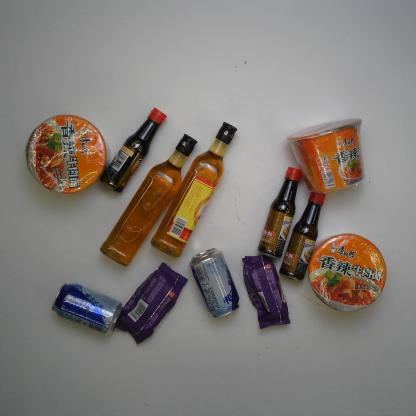Alcohol: (51, 281, 124, 337), (188, 247, 241, 320)
Dessert: (114, 260, 189, 346), (240, 254, 291, 330)
Instant Noodles: (25, 114, 112, 195), (306, 232, 388, 314), (286, 116, 366, 195)
Seasoner: (98, 134, 198, 268), (150, 120, 238, 260), (99, 106, 168, 194), (278, 190, 327, 284), (256, 165, 303, 261)
